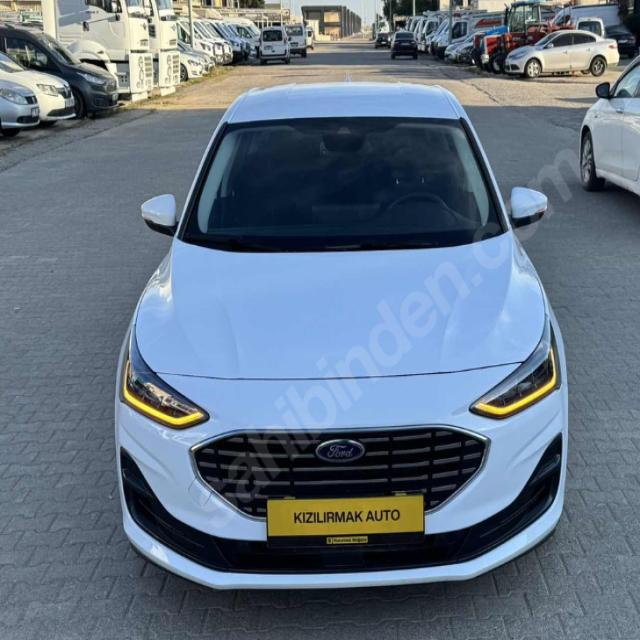ford: (315, 434, 368, 466)
